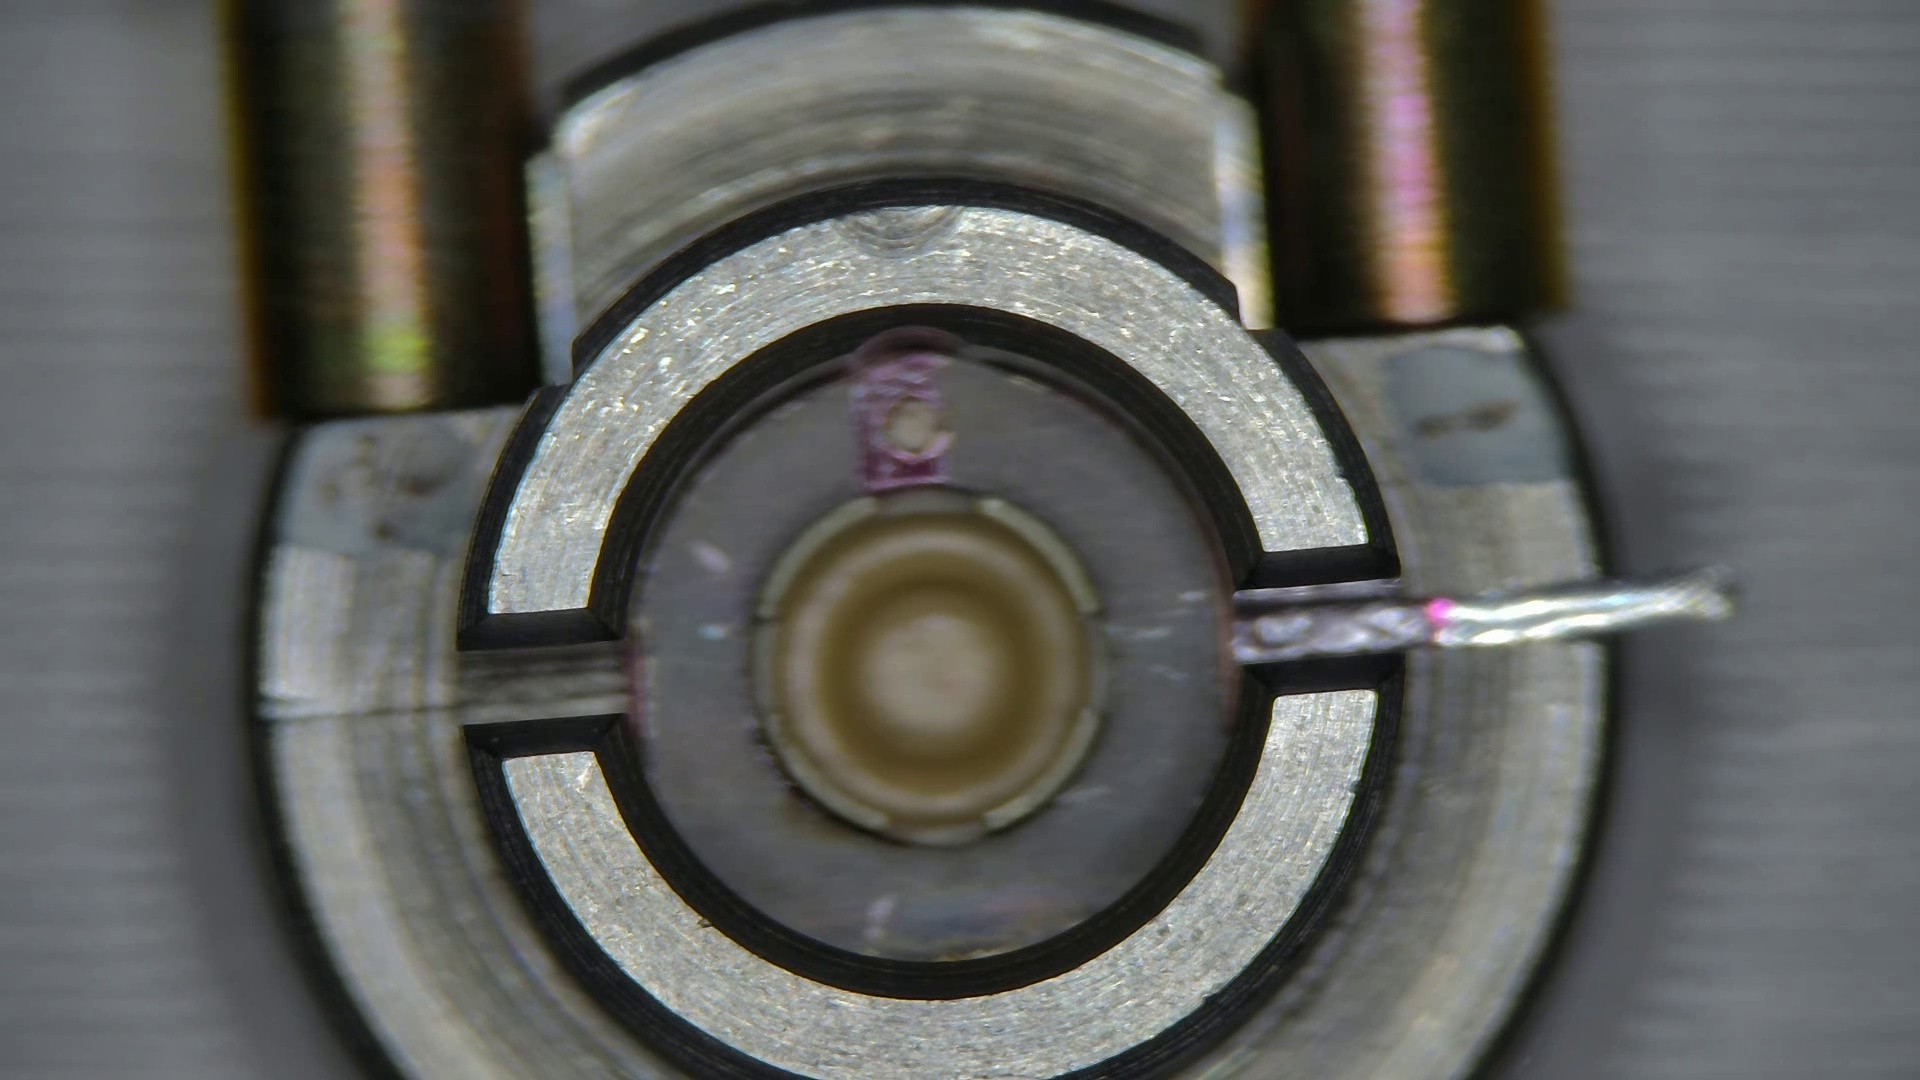YellowOring: (632, 352, 1225, 960)
